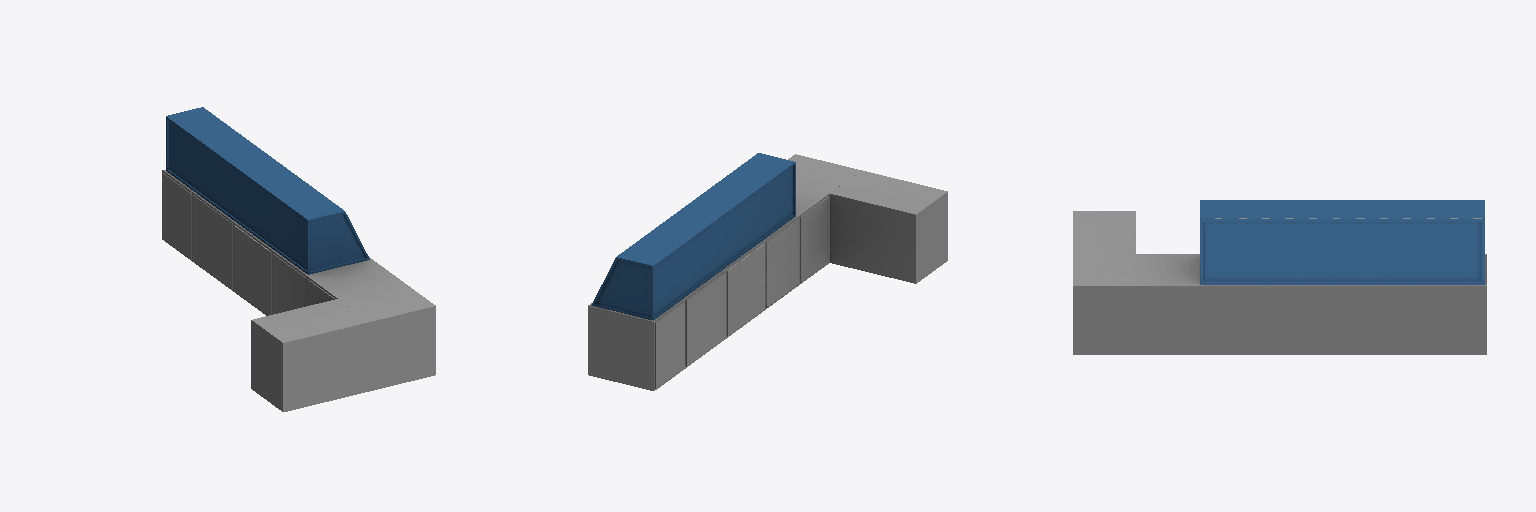
The picture shows the model from 3 angles: view 1: azimuth 30°, elevation 25°; view 2: azimuth 150°, elevation 25°; view 3: azimuth 270°, elevation 25°; orthographic projection.
Parts seen in each view (by area): view 1: Counter_Untextured:pCube649; view 2: Counter_Untextured:pCube649; view 3: Counter_Untextured:pCube649.
Boxes of the visible parts, box(x1,y1,x2,y2) form: Counter_Untextured:pCube649: box(162, 107, 435, 411); Counter_Untextured:pCube649: box(588, 153, 947, 390); Counter_Untextured:pCube649: box(1073, 200, 1486, 354).
Bounding box in the file's own units: 7.48 × 5.81 × 17.6.
Materials: 1 (1 with a texture image).